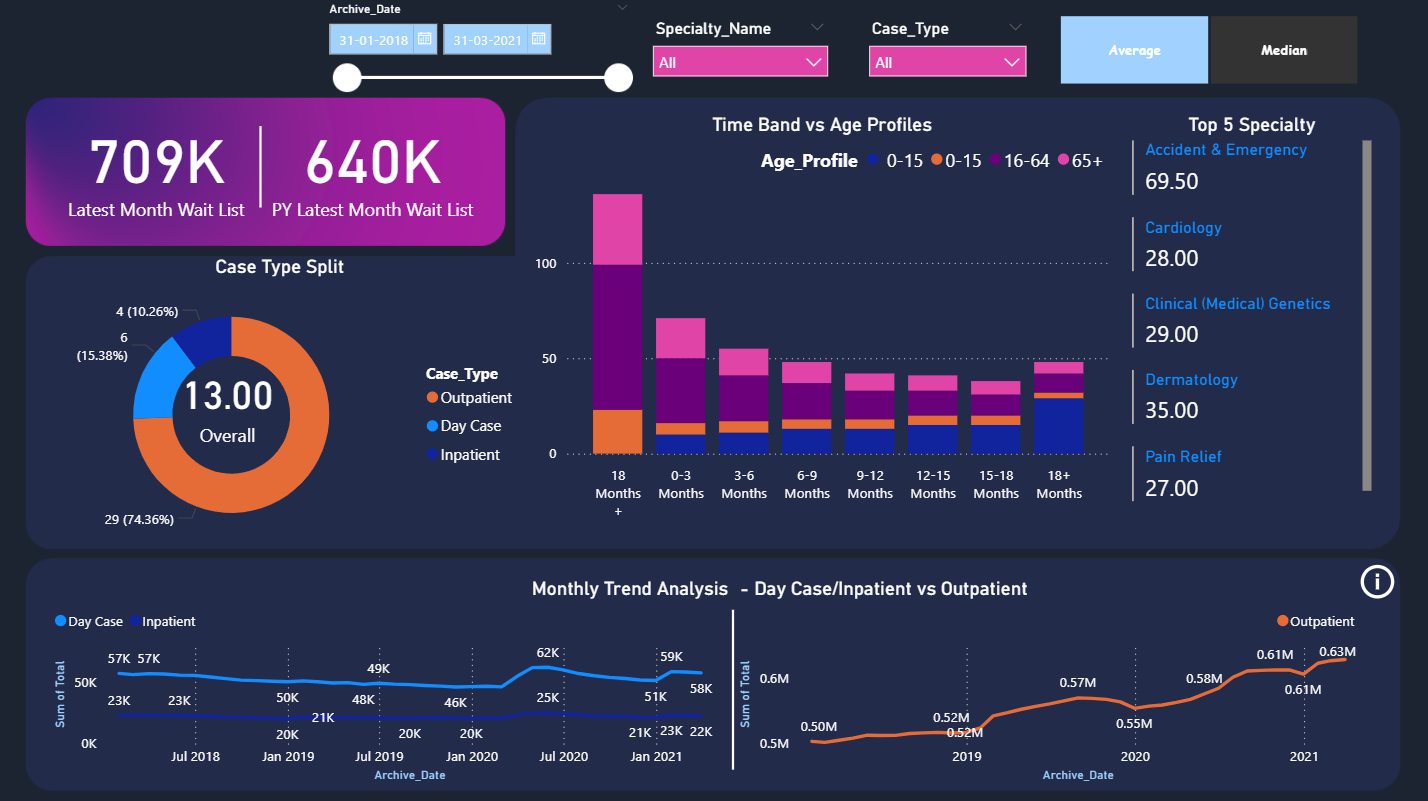

Layout of this report page (visuals, bound fields, positions):
{"tool":"powerbi","page":{"name":"Summary","canvas":[1280,720],"ordinal":0},"visuals":[{"type":"card","fields":{"Values":["All_Data.Latest Month Wait List"]},"box":[48,96,192,112],"z":0},{"type":"card","fields":{"Values":["All_Data.PY Latest Month Wait List"]},"box":[240,96,192,112],"z":1000},{"type":"slicer","fields":{"Values":["Calculation Method.CalcCalc_Method"]},"box":[928,16,304,64],"z":2000},{"type":"donutChart","title":"Case Type Split","fields":{"Category":["All_Data.Case_Type"],"Y":["All_Data.Avg/Med Wait List"]},"box":[32.5,230,442.6,266.3],"z":3000},{"type":"columnChart","title":"Time Band vs Age Profiles","fields":{"Y":["All_Data.Avg/Med Wait List"],"Category":["All_Data.Time_Bands"],"Series":["All_Data.Age_Profile"]},"box":[475.1,105,522.6,370.1],"z":4000},{"type":"multiRowCard","title":"Top 5 Specialty","fields":{"Values":["All_Data.Specialty_Name","All_Data.Avg/Med Wait List"]},"box":[1007.7,105,223.8,357.6],"z":5000},{"type":"lineChart","title":"Monthly Trend Analysis","fields":{"Category":["All_Data.Archive_Date"],"Y":["Sum(All_Data.Total)"],"Series":["All_Data.Case_Type"]},"box":[47.5,517.6,610.1,187.5],"z":6000},{"type":"lineChart","title":"- Day Case/Inpatient vs Outpatient","fields":{"Category":["All_Data.Archive_Date"],"Y":["Sum(All_Data.Total)"],"Series":["All_Data.Case_Type"]},"box":[657.6,517.6,562.6,187.5],"z":7000},{"type":"slicer","fields":{"Values":["All_Data.Archive_Date"]},"box":[285.1,0,291.3,96.3],"z":8000},{"type":"slicer","fields":{"Values":["All_Data.Case_Type"]},"box":[768,16,160,64],"z":9000},{"type":"slicer","fields":{"Values":["All_Data.Specialty_Name"]},"box":[576,16,176,64],"z":10000},{"type":"card","fields":{"Values":["All_Data.Avg/Med Wait List"]},"box":[158.8,315.1,96.3,96.3],"z":11000},{"type":"shape","box":[207.5,116.3,58.8,72.5],"z":12000},{"type":"shape","box":[627.6,546.4,58.8,142.5],"z":13000},{"type":"actionButton","box":[1211.5,497.6,40,48.8],"z":14000}]}

Visuals, with their boxes in screenshot pixels (x1, y1, x2, y2), scaled from the page's 1280x720 canvas onto the 1428x801 screenshot:
card - All_Data.Latest Month Wait List: 54/107/268/231
card - All_Data.PY Latest Month Wait List: 268/107/482/231
slicer - Calculation Method.CalcCalc_Method: 1035/18/1374/89
"Case Type Split" donutChart: 36/256/530/552
"Time Band vs Age Profiles" columnChart: 530/117/1113/529
"Top 5 Specialty" multiRowCard: 1124/117/1374/515
"Monthly Trend Analysis" lineChart: 53/576/734/784
"- Day Case/Inpatient vs Outpatient" lineChart: 734/576/1361/784
slicer - All_Data.Archive_Date: 318/0/643/107
slicer - All_Data.Case_Type: 857/18/1035/89
slicer - All_Data.Specialty_Name: 643/18/839/89
card - All_Data.Avg/Med Wait List: 177/351/285/458
shape: 231/129/297/210
shape: 700/608/766/766
actionButton: 1352/554/1396/608
